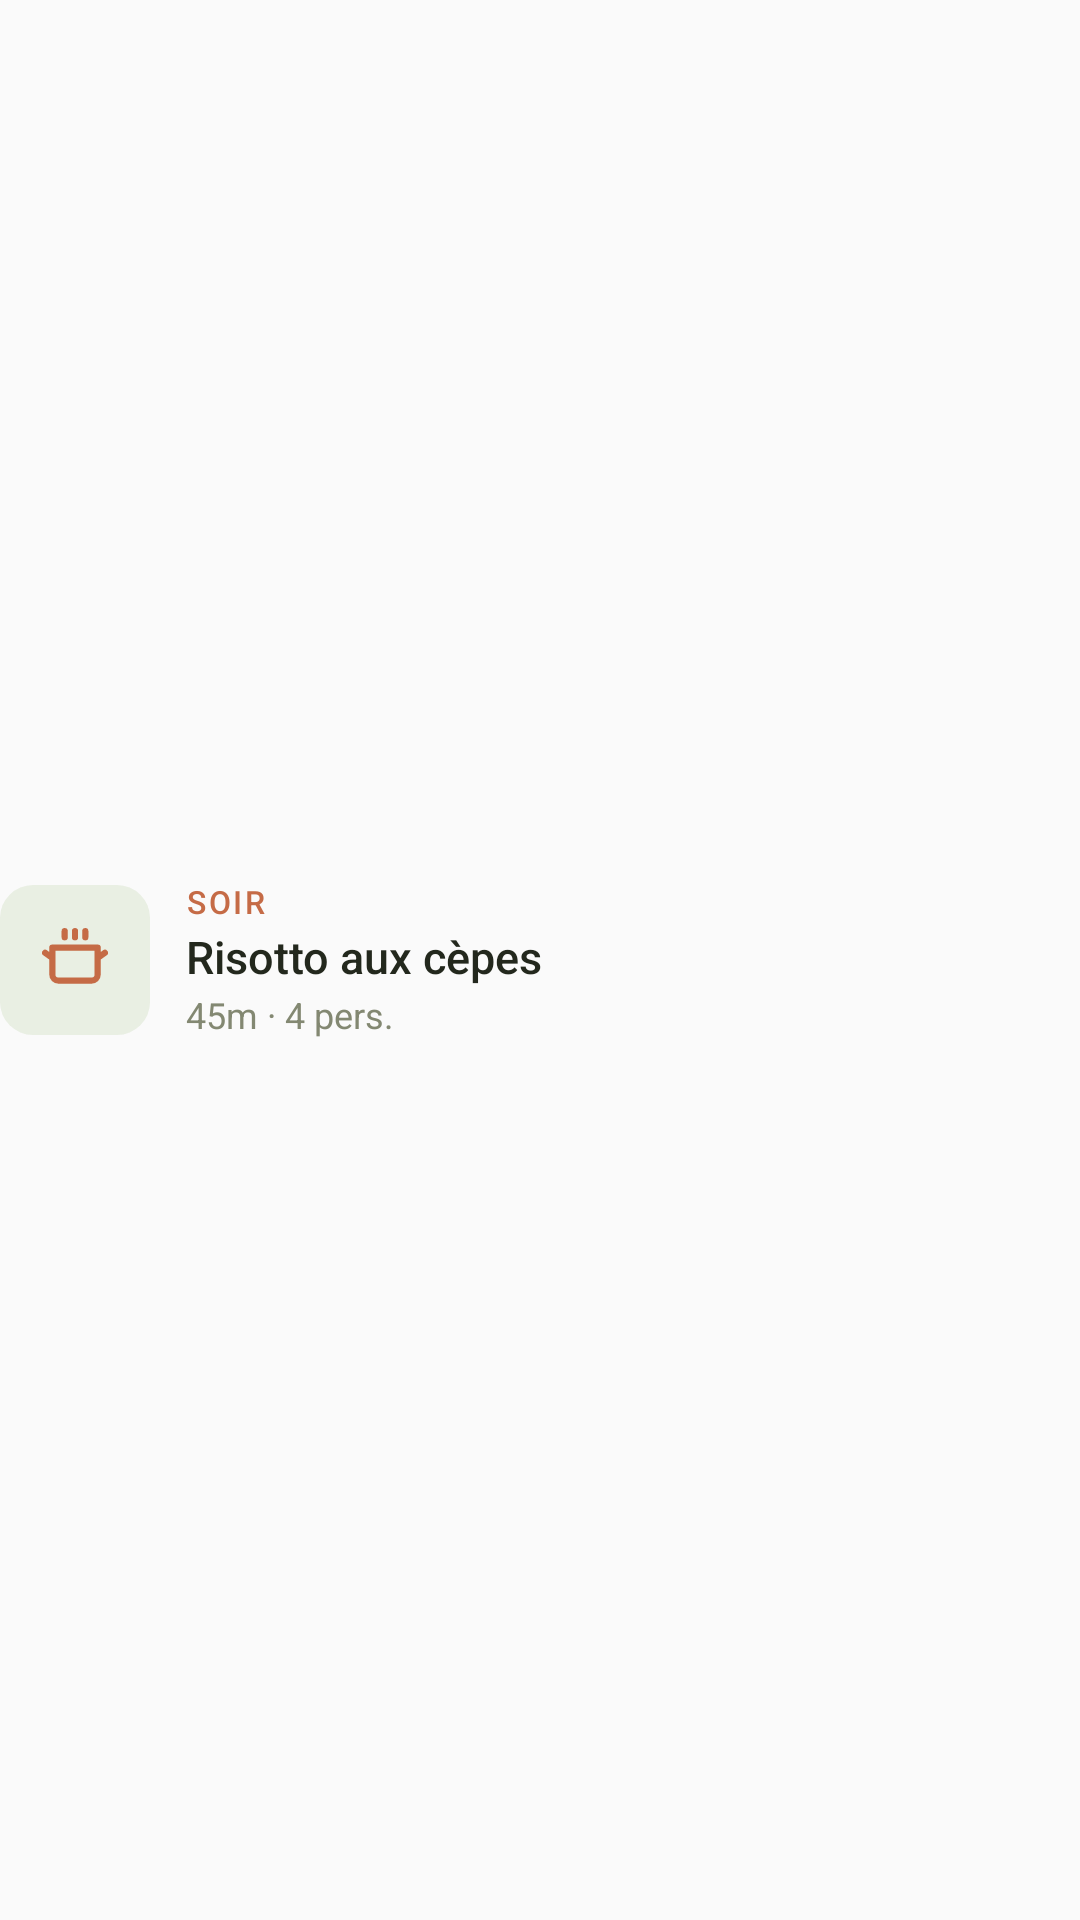

Icons on this 1080 x 1920 Android screen, each with its box as (x1, y1, x2, y2):
glyph meal: (0, 885, 150, 1035)
